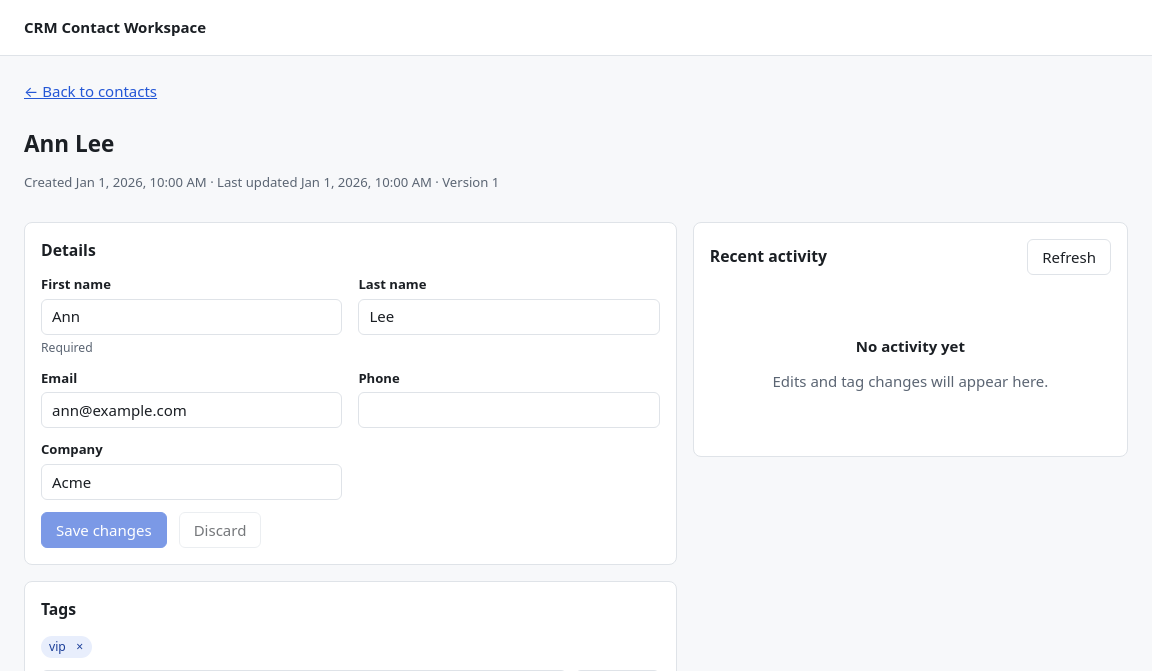
Scenario: ContactDetailPage — tags › removes a tag
Expected: the heading "Ann Lee" is shown, [24,128,114,158]
Click the button named "Remove tag vip". click: (80, 647)
box: [68,635,92,659]
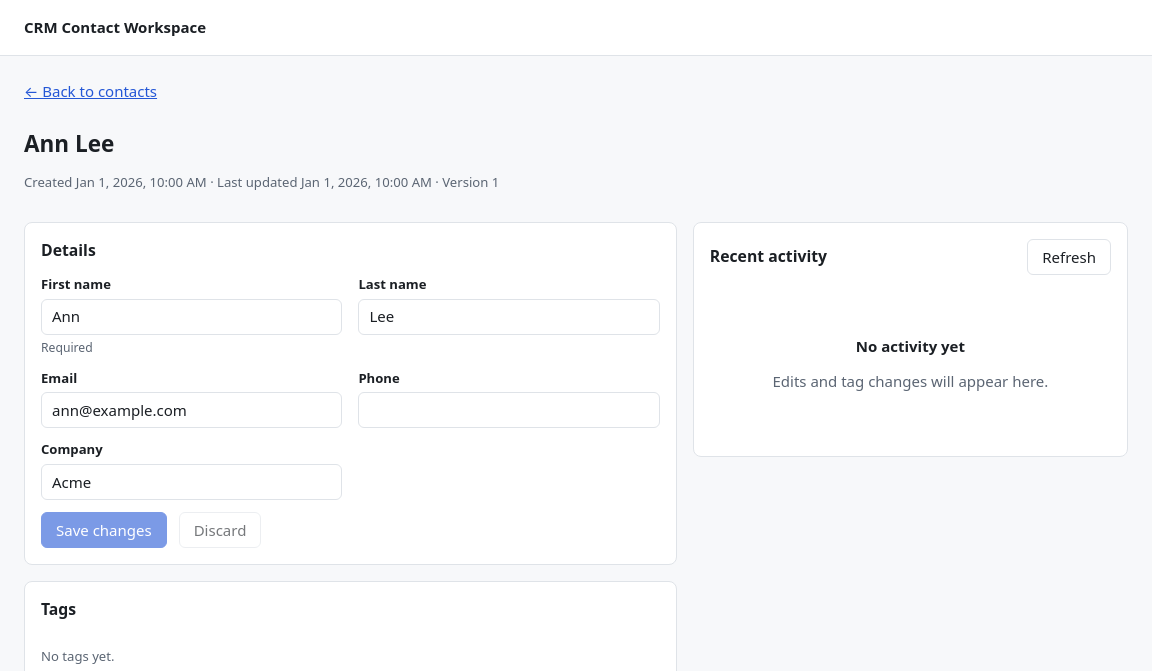
Now the text "No tags yet." is shown, box [41,647,114,665]
